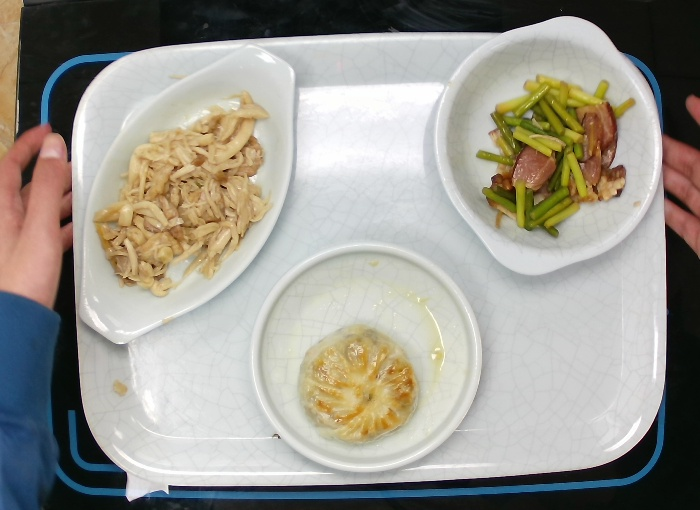JYsf-Shuang_Er_Wan: (432, 14, 664, 276)
JYsf-Xiao_Yuan_Pan: (247, 240, 484, 474)
JYsf-Yu_Pan: (78, 41, 297, 346)
